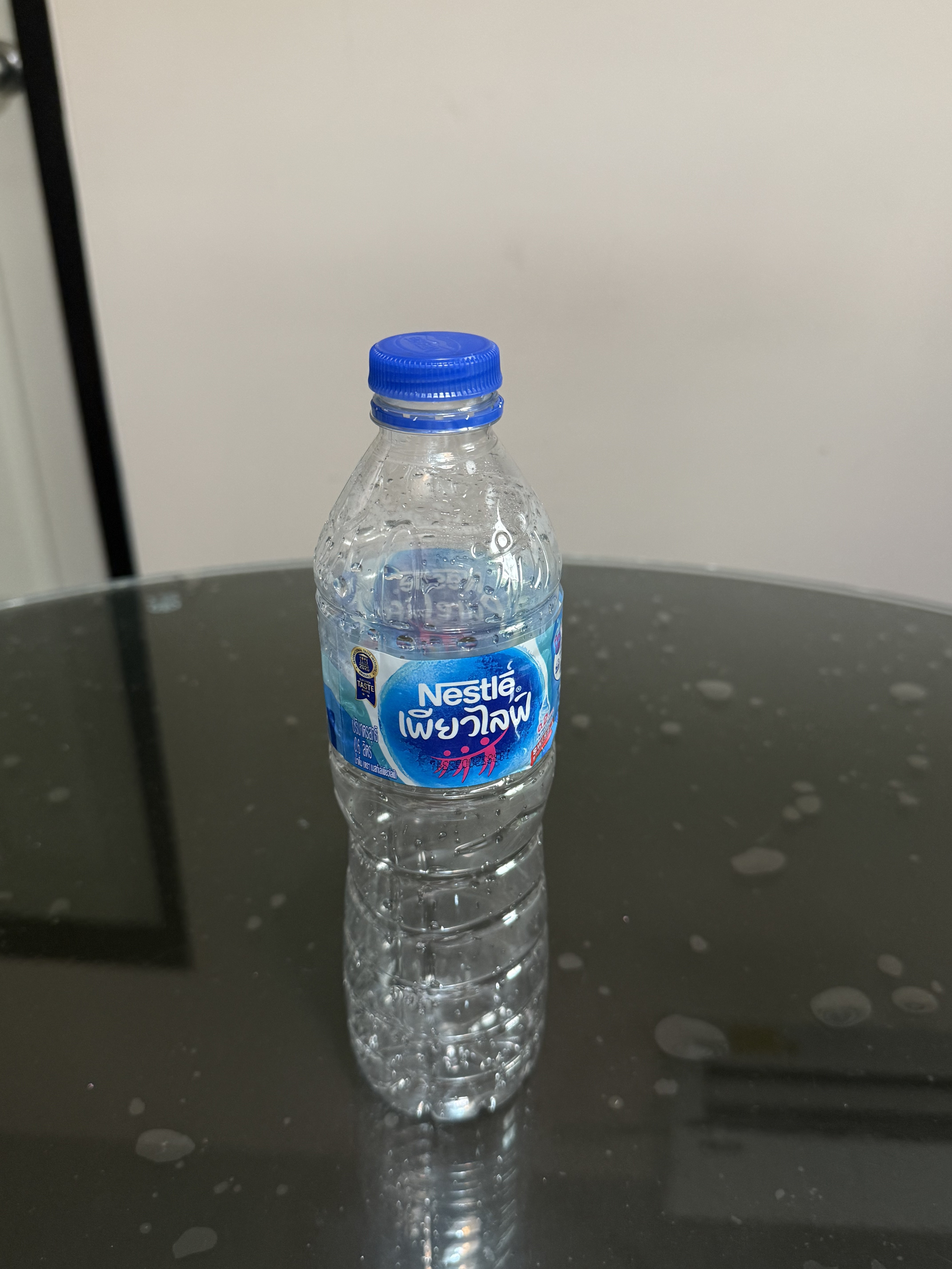half_cap: (361, 324, 508, 432)
